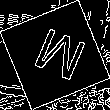M_SW: (24, 23, 86, 87)
